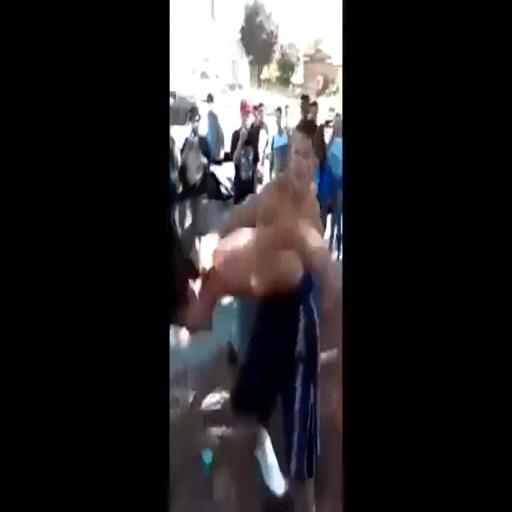violencia: (172, 110, 340, 504)
